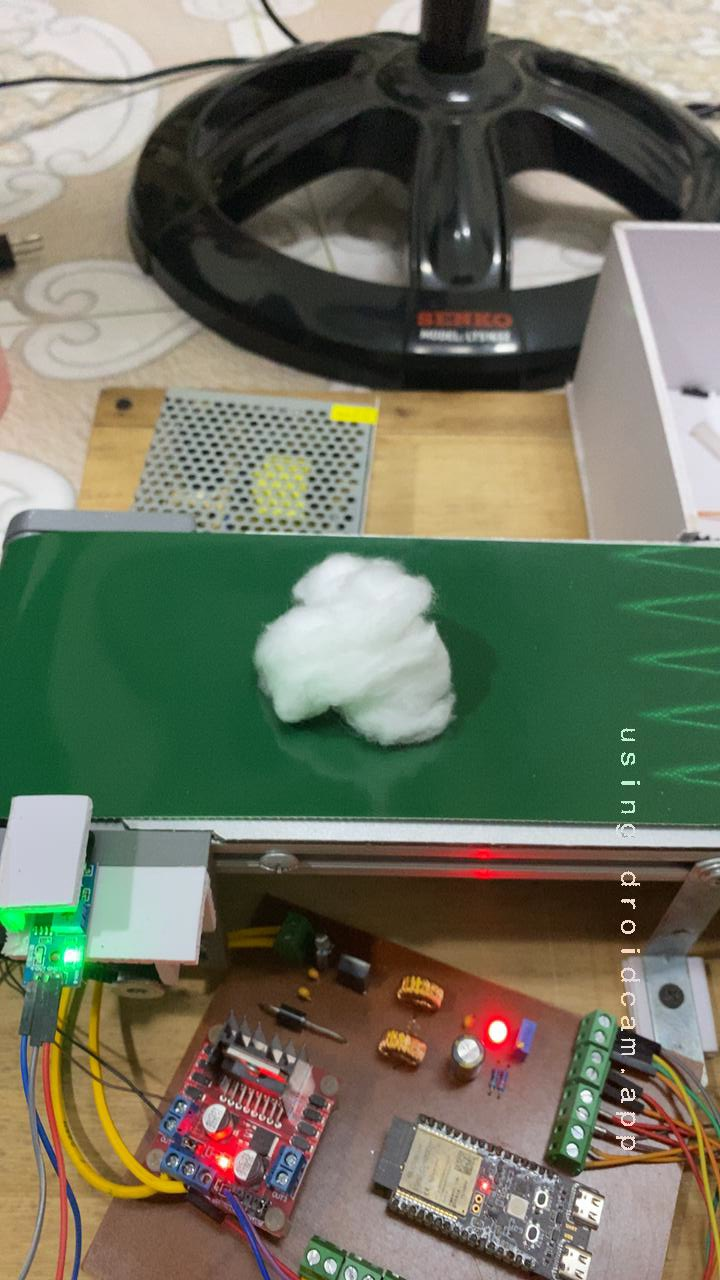cotton: (224, 541, 485, 768)
